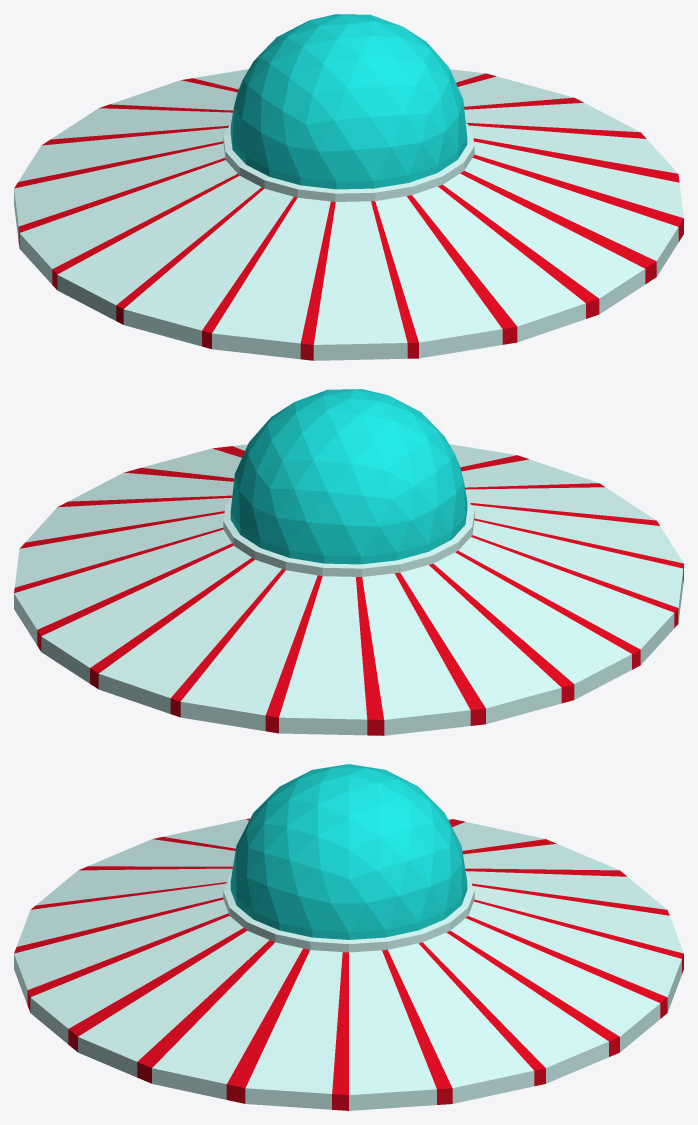
Rendered from ufo.fbx.
3 views of the same model, one above another, from view 1: azimuth 30°, elevation 25°; view 2: azimuth 150°, elevation 25°; view 3: azimuth 270°, elevation 25° (orthographic).
Visible parts, largest first — view 1: Icosphere; view 2: Icosphere; view 3: Icosphere.
Boxes of the visible parts, x1=… form: Icosphere: x1=14, y1=14, x2=683, y2=360; Icosphere: x1=14, y1=389, x2=683, y2=735; Icosphere: x1=14, y1=764, x2=683, y2=1110.
Size of the model in its own units: 566 by 181 by 566.
